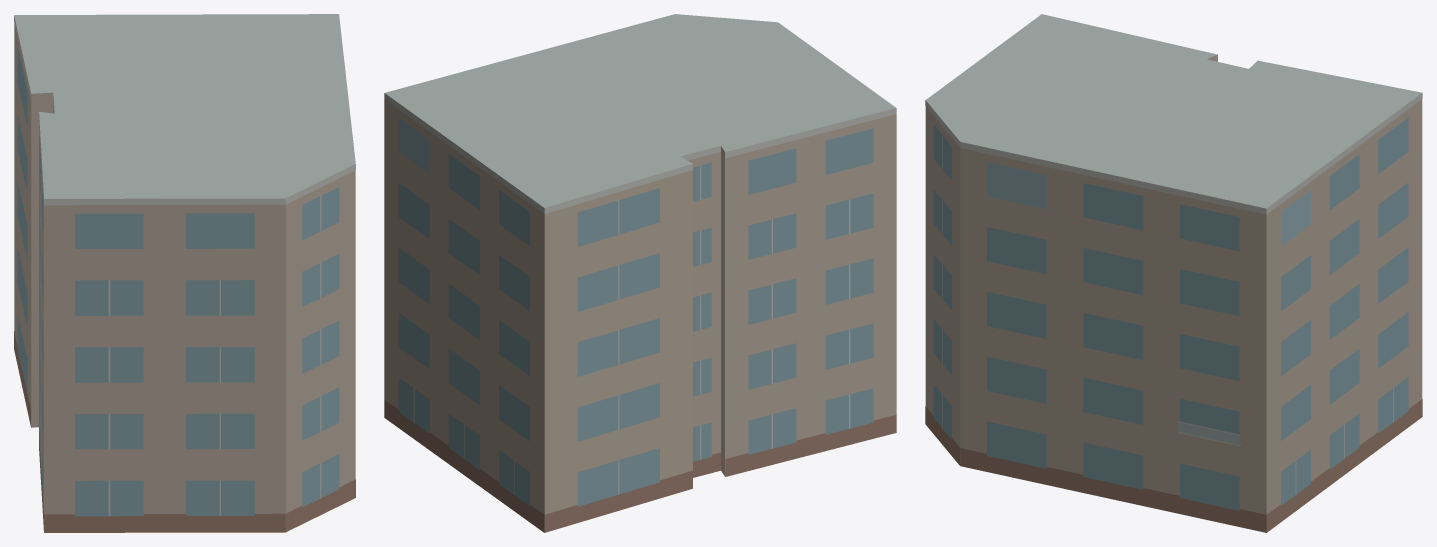
File: survey-upis-33021912.glb
3 views of the same model, side by side, from view 1: azimuth 30°, elevation 25°; view 2: azimuth 150°, elevation 25°; view 3: azimuth 270°, elevation 25° (orthographic). The views are drawn at different scales.
Parts seen in each view (by area): view 1: survey-upis-33021912.tmp; view 2: survey-upis-33021912.tmp; view 3: survey-upis-33021912.tmp.
Part boxes in pixels (<box>): survey-upis-33021912.tmp: <box>14,14,355,532</box>; survey-upis-33021912.tmp: <box>384,14,896,532</box>; survey-upis-33021912.tmp: <box>925,14,1422,532</box>.
Size of the model in its own units: 16.74 by 13 by 18.06.
